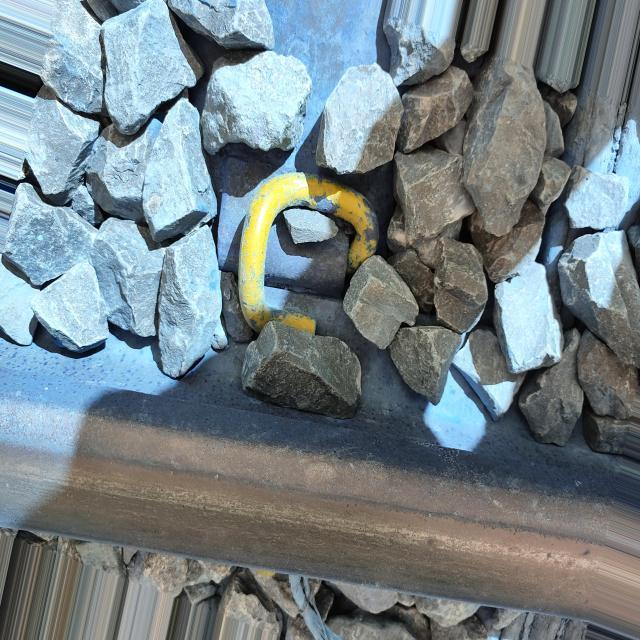Good Fasteners: (217, 173, 379, 334)
